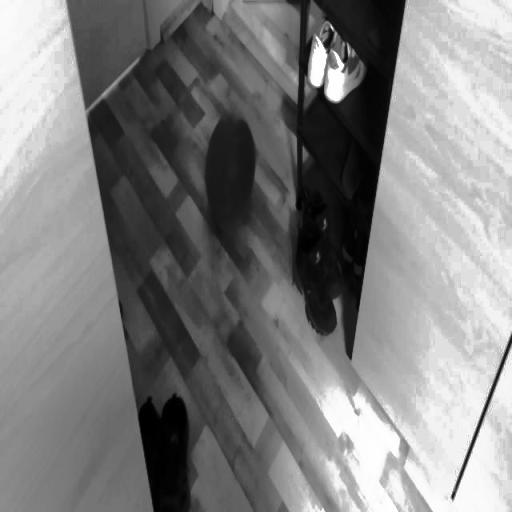balloon: (204, 103, 256, 225)
